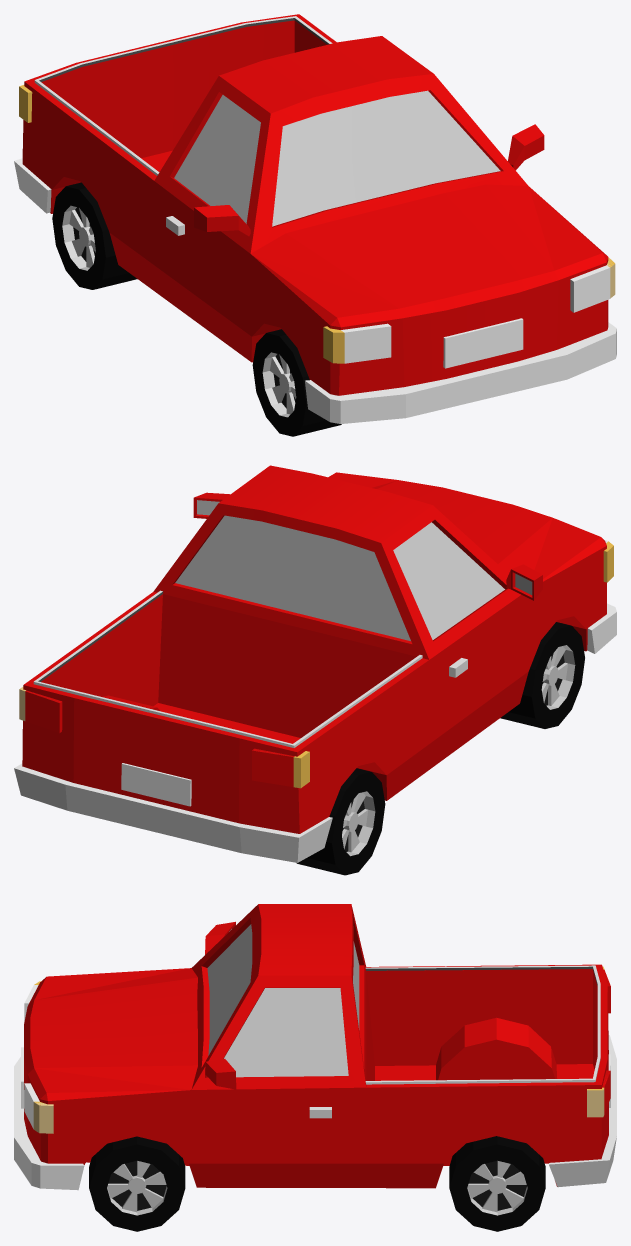
File: Car-04-D.fbx
3 views of the same model, one above another, from view 1: azimuth 30°, elevation 25°; view 2: azimuth 150°, elevation 25°; view 3: azimuth 270°, elevation 25° (orthographic). The views are drawn at different scales.
Parts seen in each view (by area): view 1: Car-04, BR, FR, Headlight, Light-Right; view 2: Car-04, FR, BR, Break-Light, Light-Right; view 3: Car-04, BL, FL, Light-Left, Headlight.
Part boxes in pixels (x1=…): Car-04: x1=14, y1=14, x2=616, y2=423; BR: x1=52, y1=182, x2=137, y2=289; FR: x1=252, y1=329, x2=341, y2=436; Headlight: x1=341, y1=265, x2=610, y2=363; Light-Right: x1=19, y1=85, x2=344, y2=363; Car-04: x1=14, y1=465, x2=616, y2=862; FR: x1=500, y1=622, x2=584, y2=728; BR: x1=296, y1=768, x2=385, y2=875; Break-Light: x1=25, y1=691, x2=293, y2=786; Light-Right: x1=293, y1=541, x2=613, y2=788; Car-04: x1=14, y1=904, x2=616, y2=1190; BL: x1=449, y1=1136, x2=545, y2=1231; FL: x1=89, y1=1136, x2=185, y2=1231; Light-Left: x1=33, y1=1088, x2=604, y2=1133; Headlight: x1=24, y1=985, x2=39, y2=1128.
Bounding box in the file's own units: 2.45 × 1.79 × 4.18.
